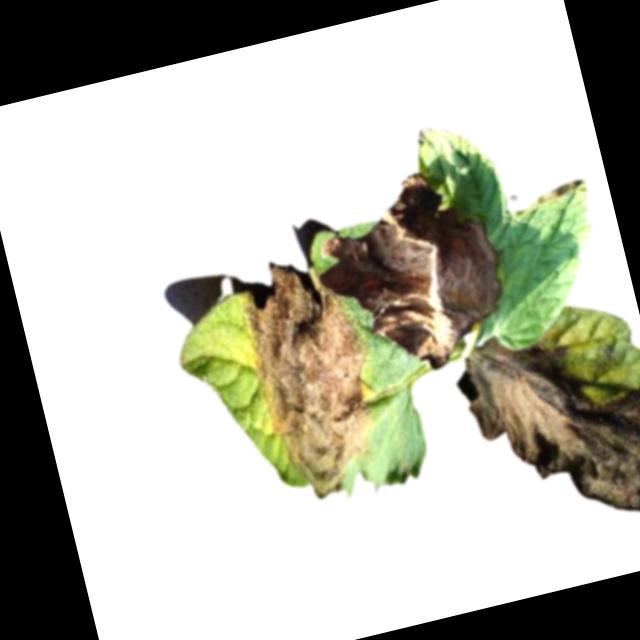Late_blight: (456, 305, 640, 586), (310, 163, 519, 390), (231, 245, 401, 508)
